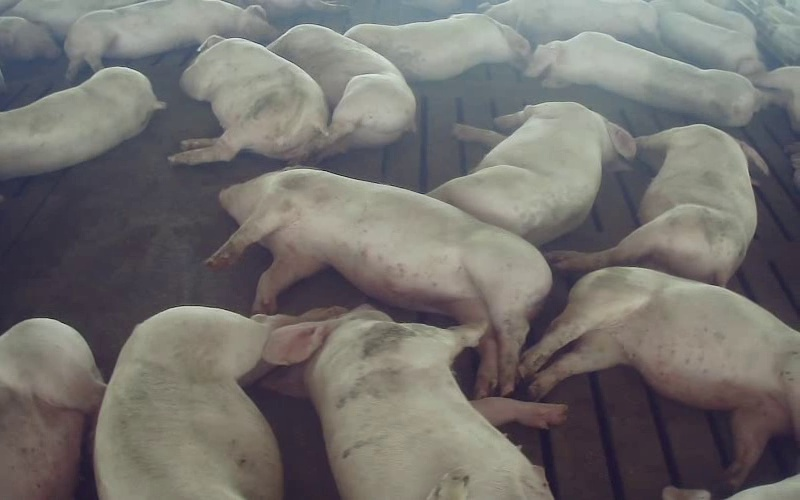pig: (207, 170, 551, 395), (520, 267, 799, 486), (263, 307, 566, 499), (94, 307, 344, 499), (548, 124, 767, 285), (430, 102, 635, 244), (525, 32, 760, 126), (169, 36, 328, 164), (268, 24, 415, 158), (0, 67, 165, 179), (64, 0, 276, 80), (345, 14, 530, 80), (486, 0, 666, 53), (659, 11, 764, 75)
